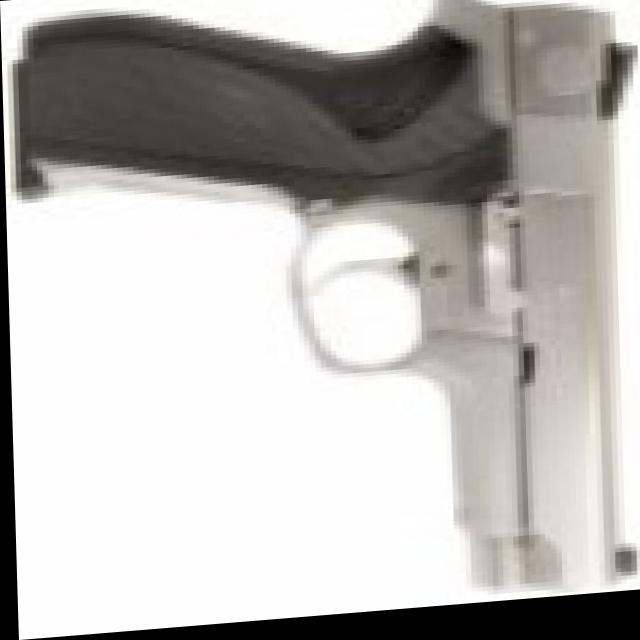handgun: (11, 0, 640, 627)
